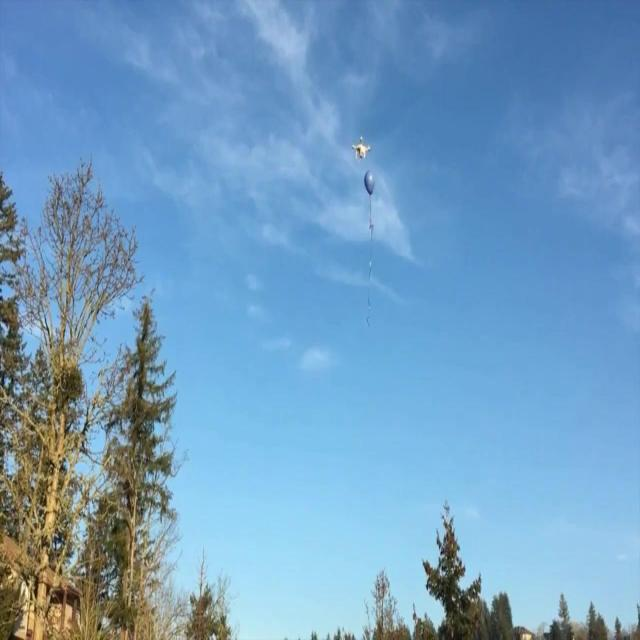drone: (350, 133, 371, 164)
